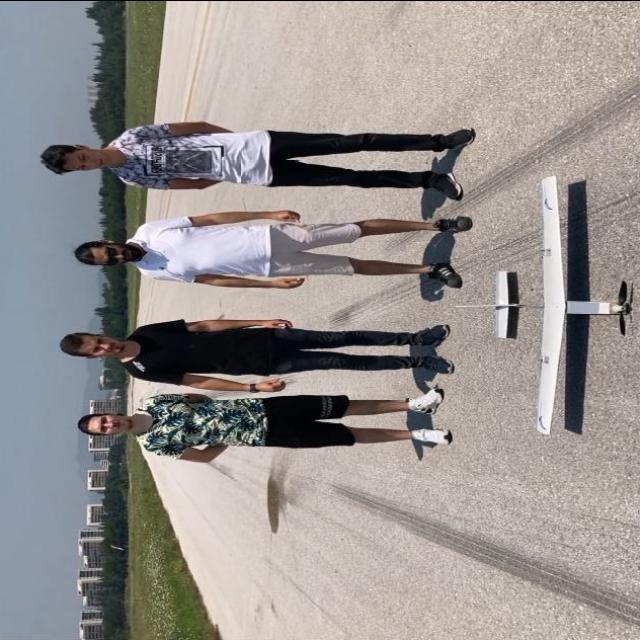plane: (452, 175, 629, 436)
